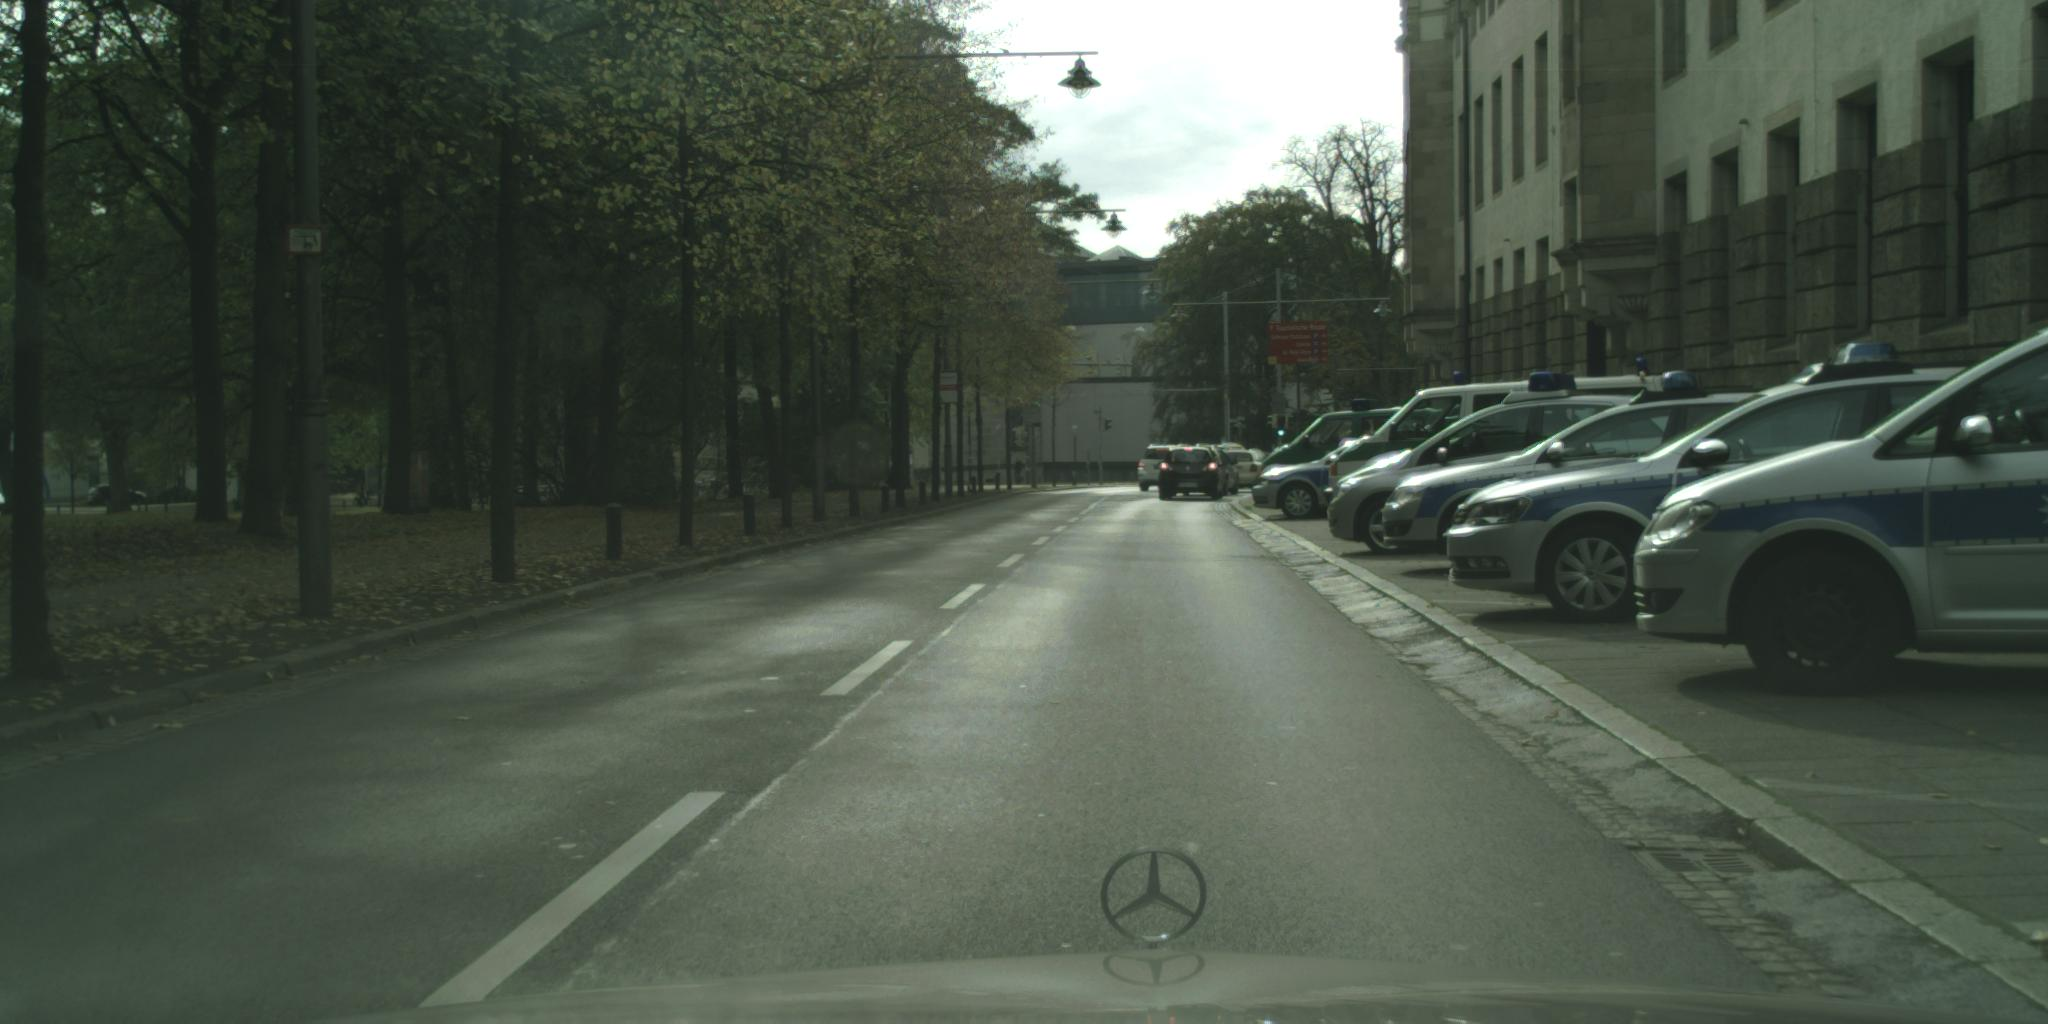car: (1634, 327, 2048, 700), (1447, 344, 1991, 626), (1383, 387, 1783, 549), (1330, 372, 1659, 555), (1324, 360, 1715, 509), (1260, 398, 1415, 487), (1253, 436, 1391, 522), (1157, 448, 1226, 503), (1183, 443, 1241, 498), (1139, 444, 1194, 492), (1220, 449, 1273, 491), (86, 482, 146, 505), (1209, 443, 1253, 461)
